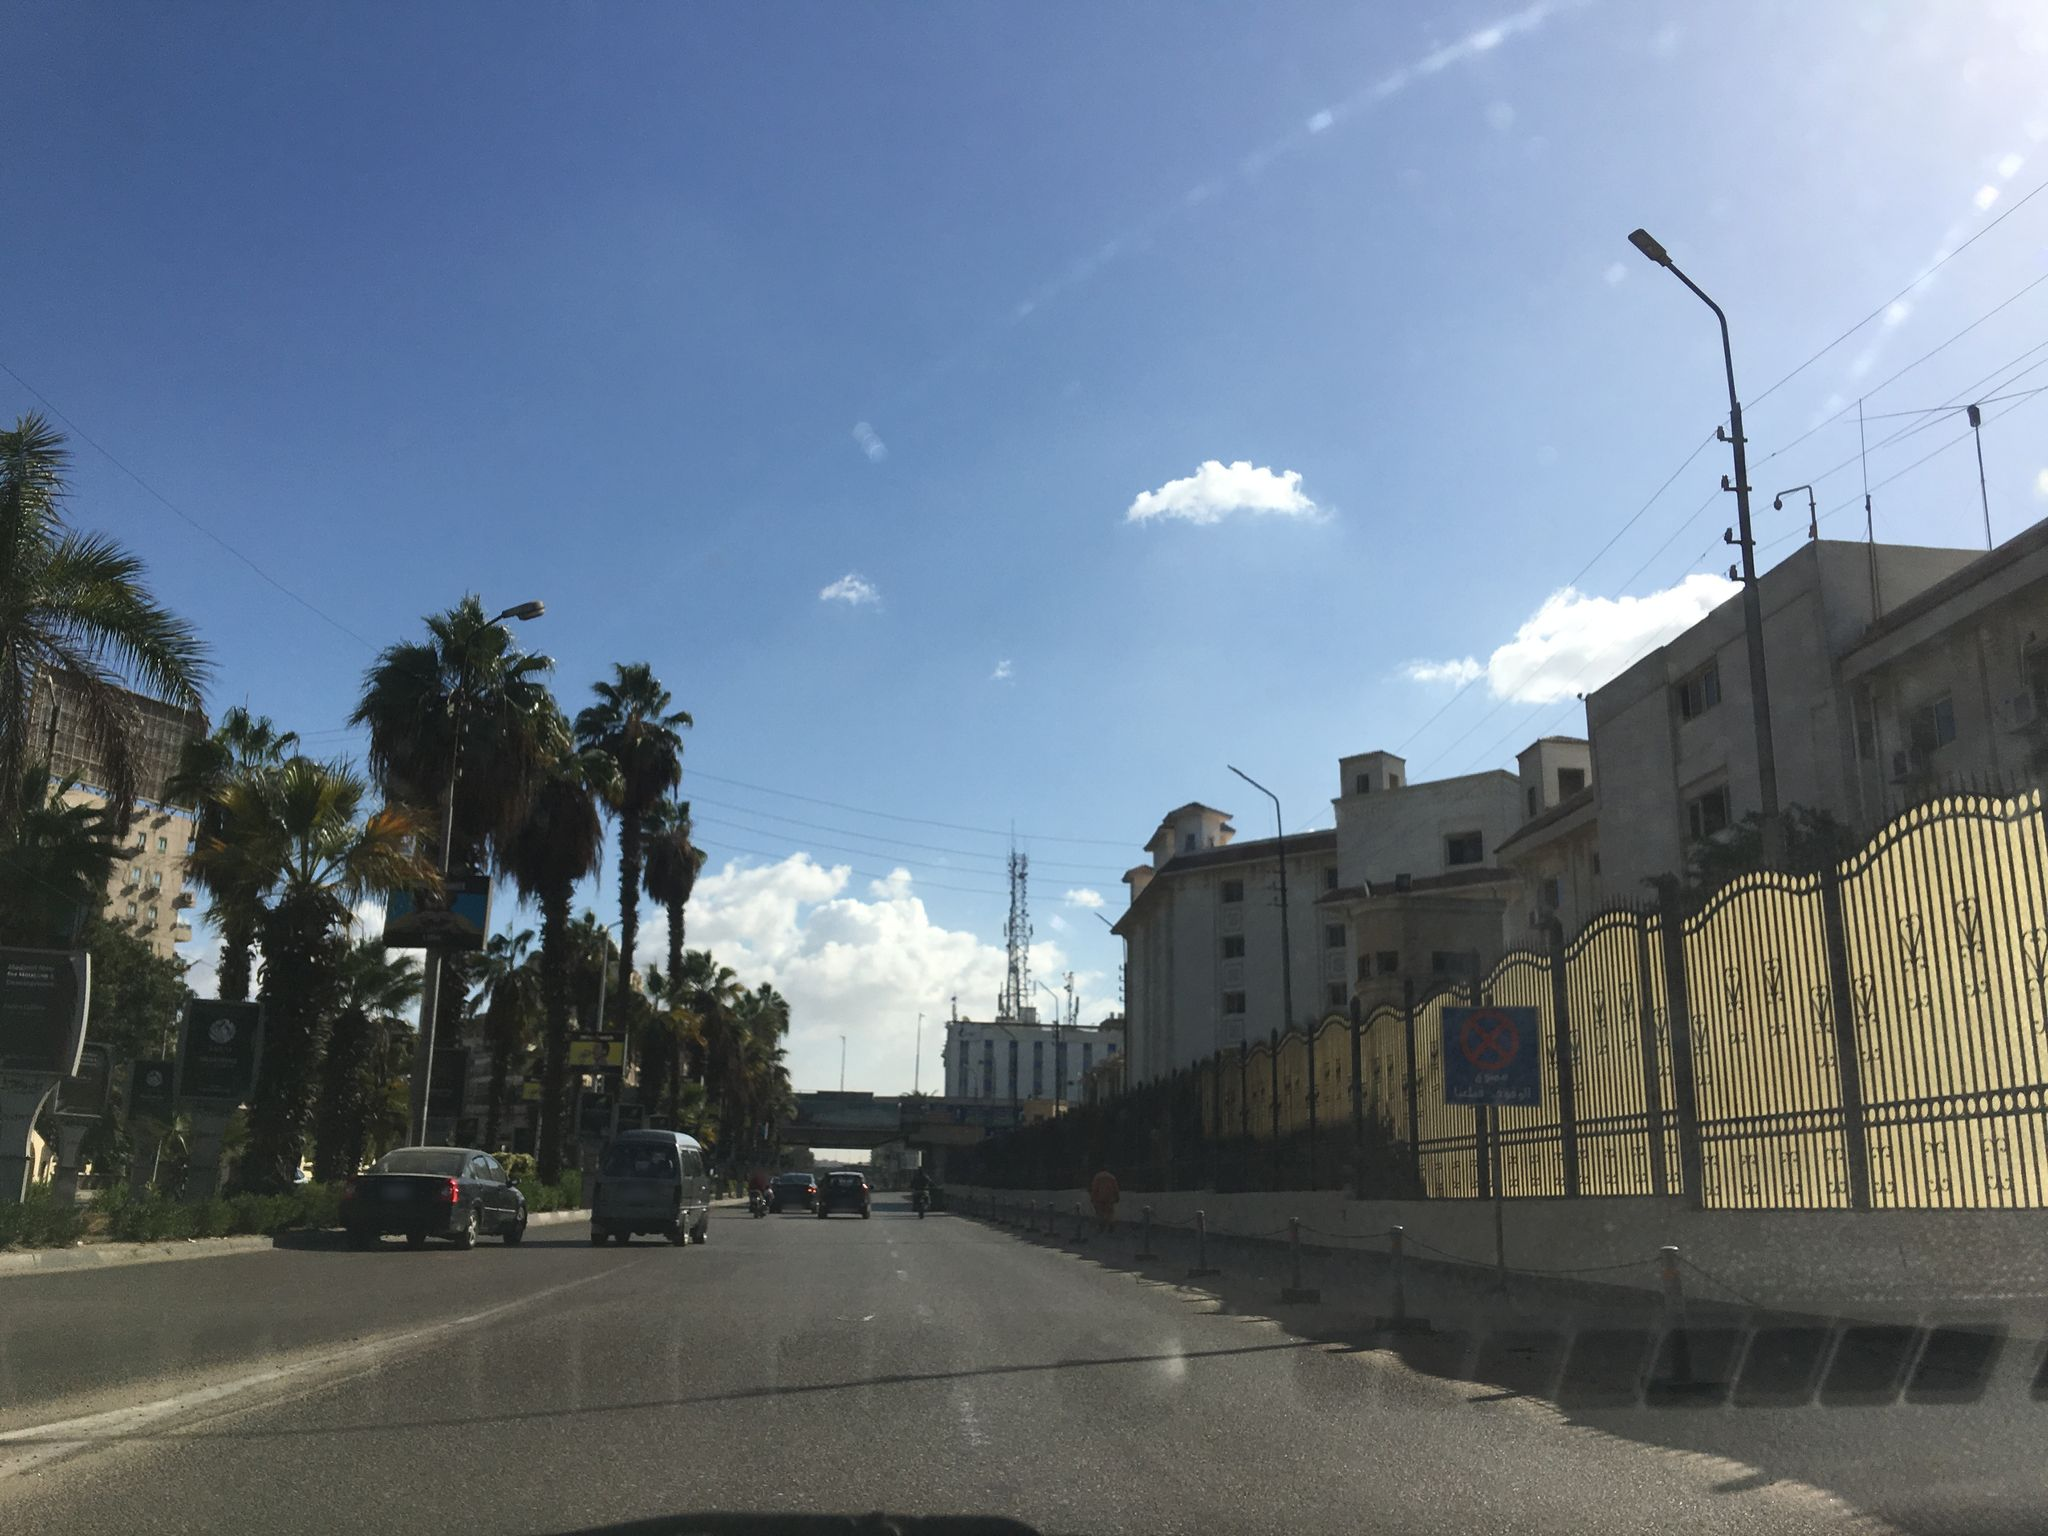car: (335, 1146, 529, 1249), (589, 1128, 718, 1246), (814, 1171, 876, 1220), (776, 1171, 818, 1213)
motorcycle: (747, 1183, 776, 1220), (910, 1183, 935, 1220)
